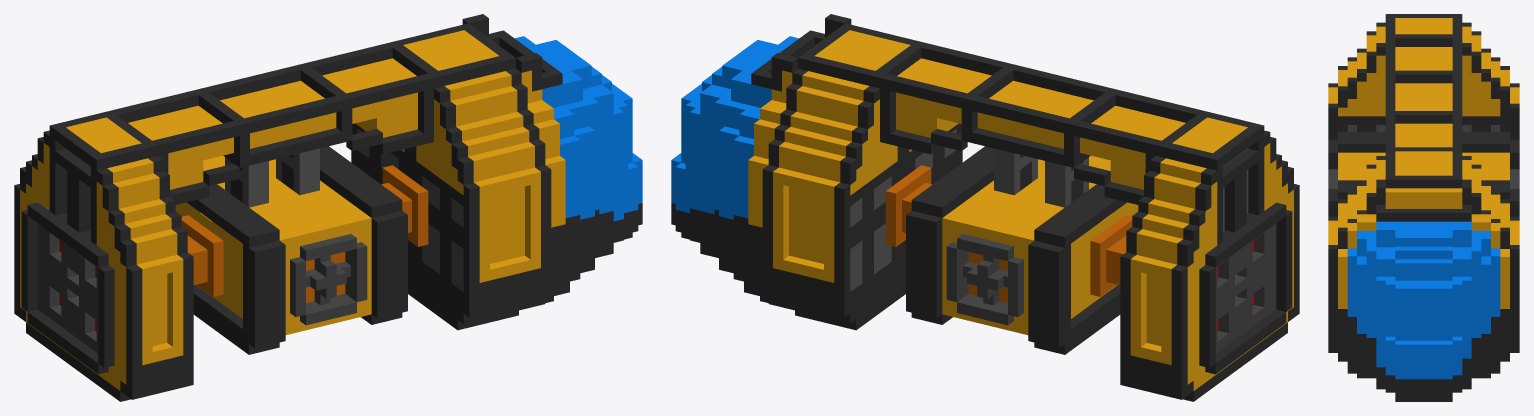
Rendered from ConstructionShip#1.obj.
3 views of the same model, side by side, from view 1: azimuth 30°, elevation 25°; view 2: azimuth 150°, elevation 25°; view 3: azimuth 270°, elevation 25° (orthographic). The views are drawn at different scales.
Size of the model in its own units: 5.5 by 2.2 by 2.
1 material, 1 textured.
